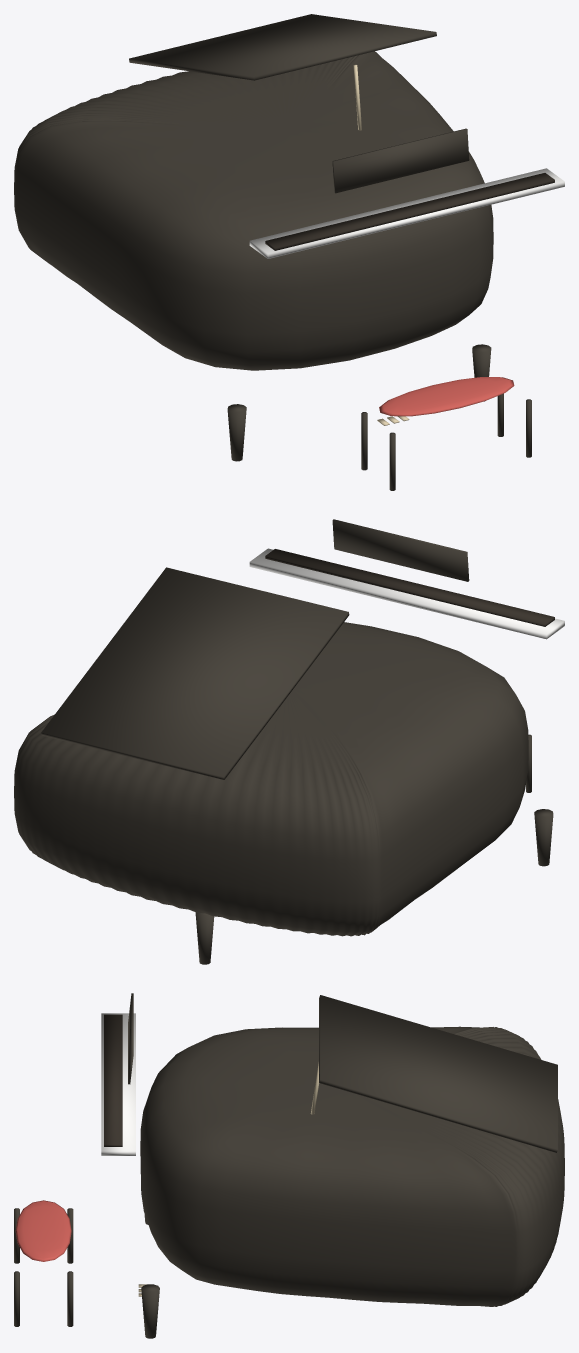
Rendered from piano.glb.
3 views of the same model, one above another, from view 1: azimuth 30°, elevation 25°; view 2: azimuth 150°, elevation 25°; view 3: azimuth 270°, elevation 25° (orthographic). The views are drawn at different scales.
Visible parts, largest first — view 1: Piano; view 2: Piano; view 3: Piano.
Part boxes in pixels (x1,y1,x2,y2): Piano: (14, 14, 564, 490); Piano: (14, 519, 564, 964); Piano: (14, 993, 564, 1338).
Size of the model in its own units: 1.5 by 1.14 by 2.06.
